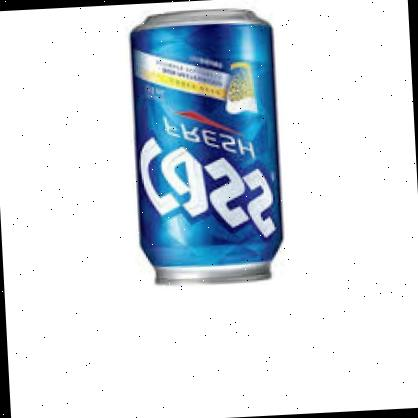can: (127, 6, 286, 288)
